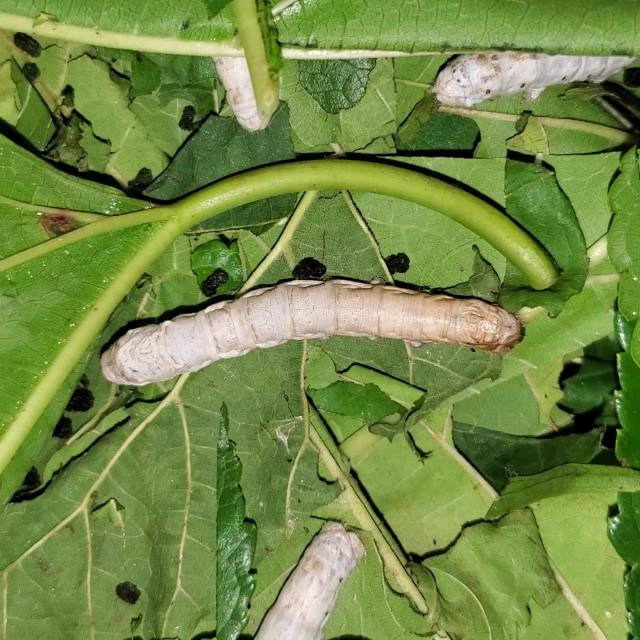Grasserie: (74, 248, 566, 413)
